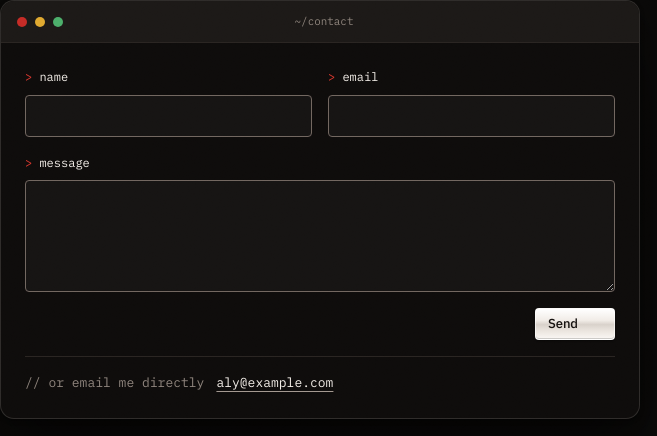
Scenario: ContactForm › sends the message without leaving the page and clears the form
Type "Ada Lovelace" into the field labelled "> name" at [168, 116], box left=25, top=95, right=312, bottom=137
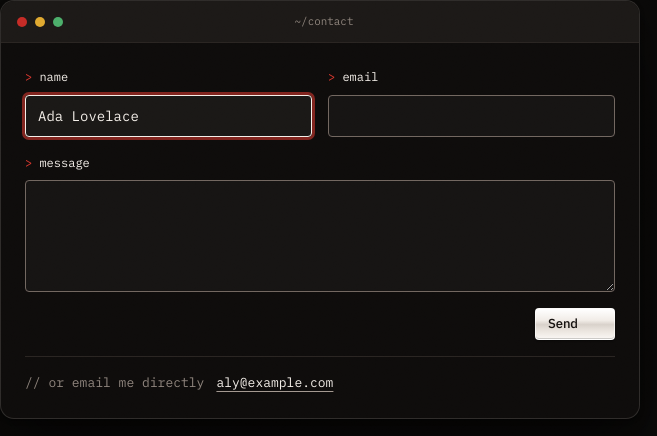
Type "ada@example.com" into the field labelled "> email" at [472, 116], box left=328, top=95, right=615, bottom=137
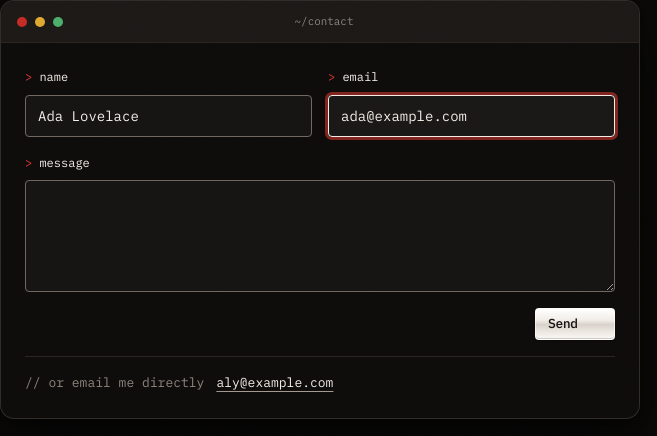
Type "Hello & welcome" into the text box labelled "> message" at [320, 236], box left=25, top=180, right=615, bottom=292
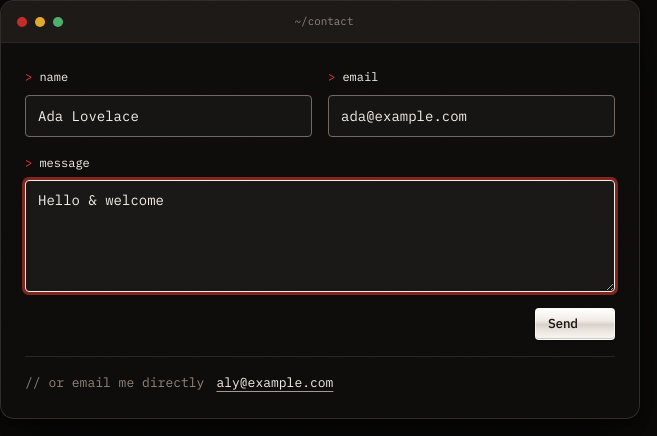
Click the button "Send" at [575, 324], box left=535, top=308, right=615, bottom=340
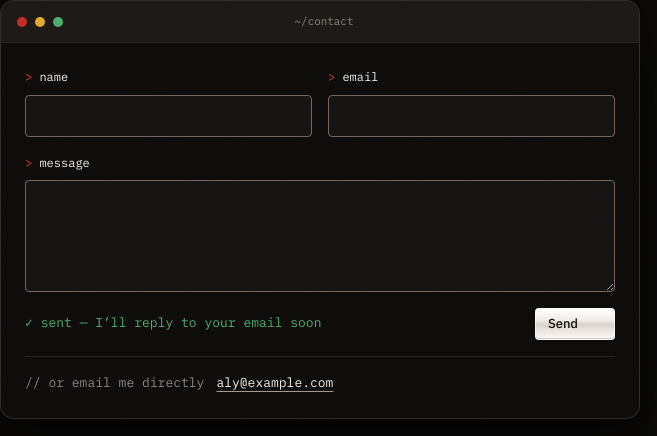
Check: the text "✓ sent — I’ll reply to your email soon" is shown, box left=25, top=313, right=321, bottom=334
Check: the text box labelled "> message" is empty, box left=25, top=180, right=615, bottom=292
